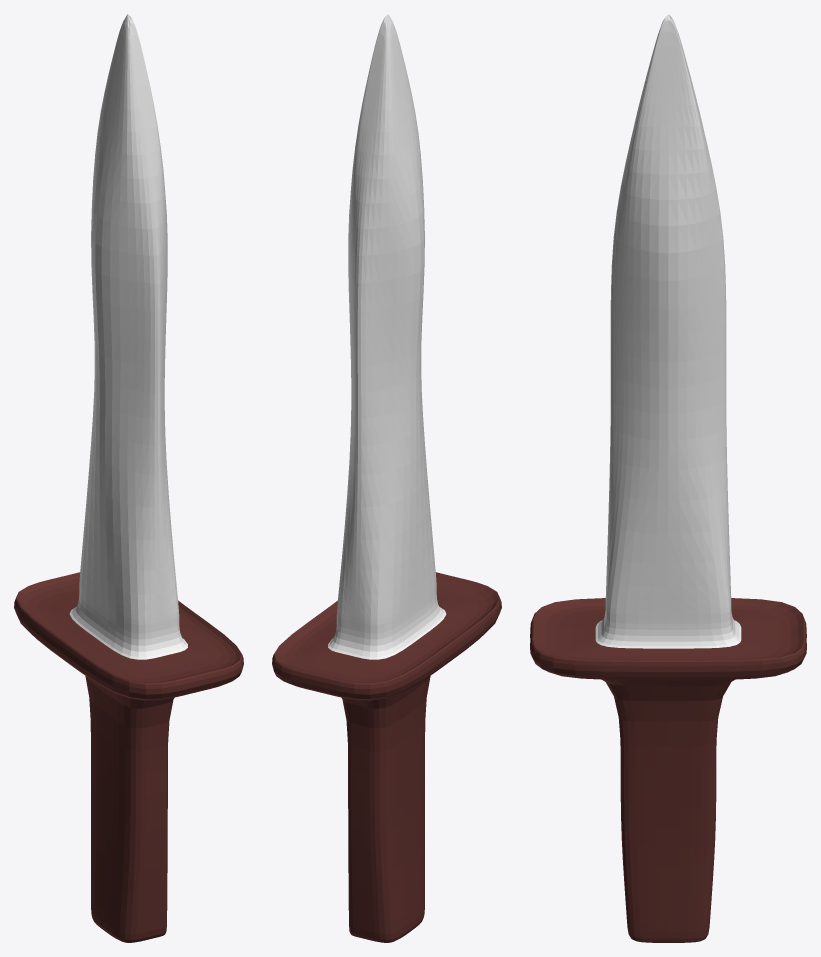
File: sword.fbx
The picture shows the model from 3 angles, left to right: view 1: azimuth 30°, elevation 25°; view 2: azimuth 150°, elevation 25°; view 3: azimuth 270°, elevation 25°; orthographic projection.
Parts seen in each view (by area): view 1: Object_2, Layer 01; view 2: Object_2, Layer 01; view 3: Object_2, Layer 01.
Boxes of the visible parts, left/top/right/bottom form: Object_2: left=69, top=14, right=187, bottom=659; Layer 01: left=14, top=572, right=243, bottom=942; Object_2: left=328, top=14, right=446, bottom=659; Layer 01: left=272, top=572, right=501, bottom=942; Object_2: left=595, top=14, right=741, bottom=648; Layer 01: left=530, top=598, right=806, bottom=942.
Size of the model in its own units: 252 by 453 by 1662.
